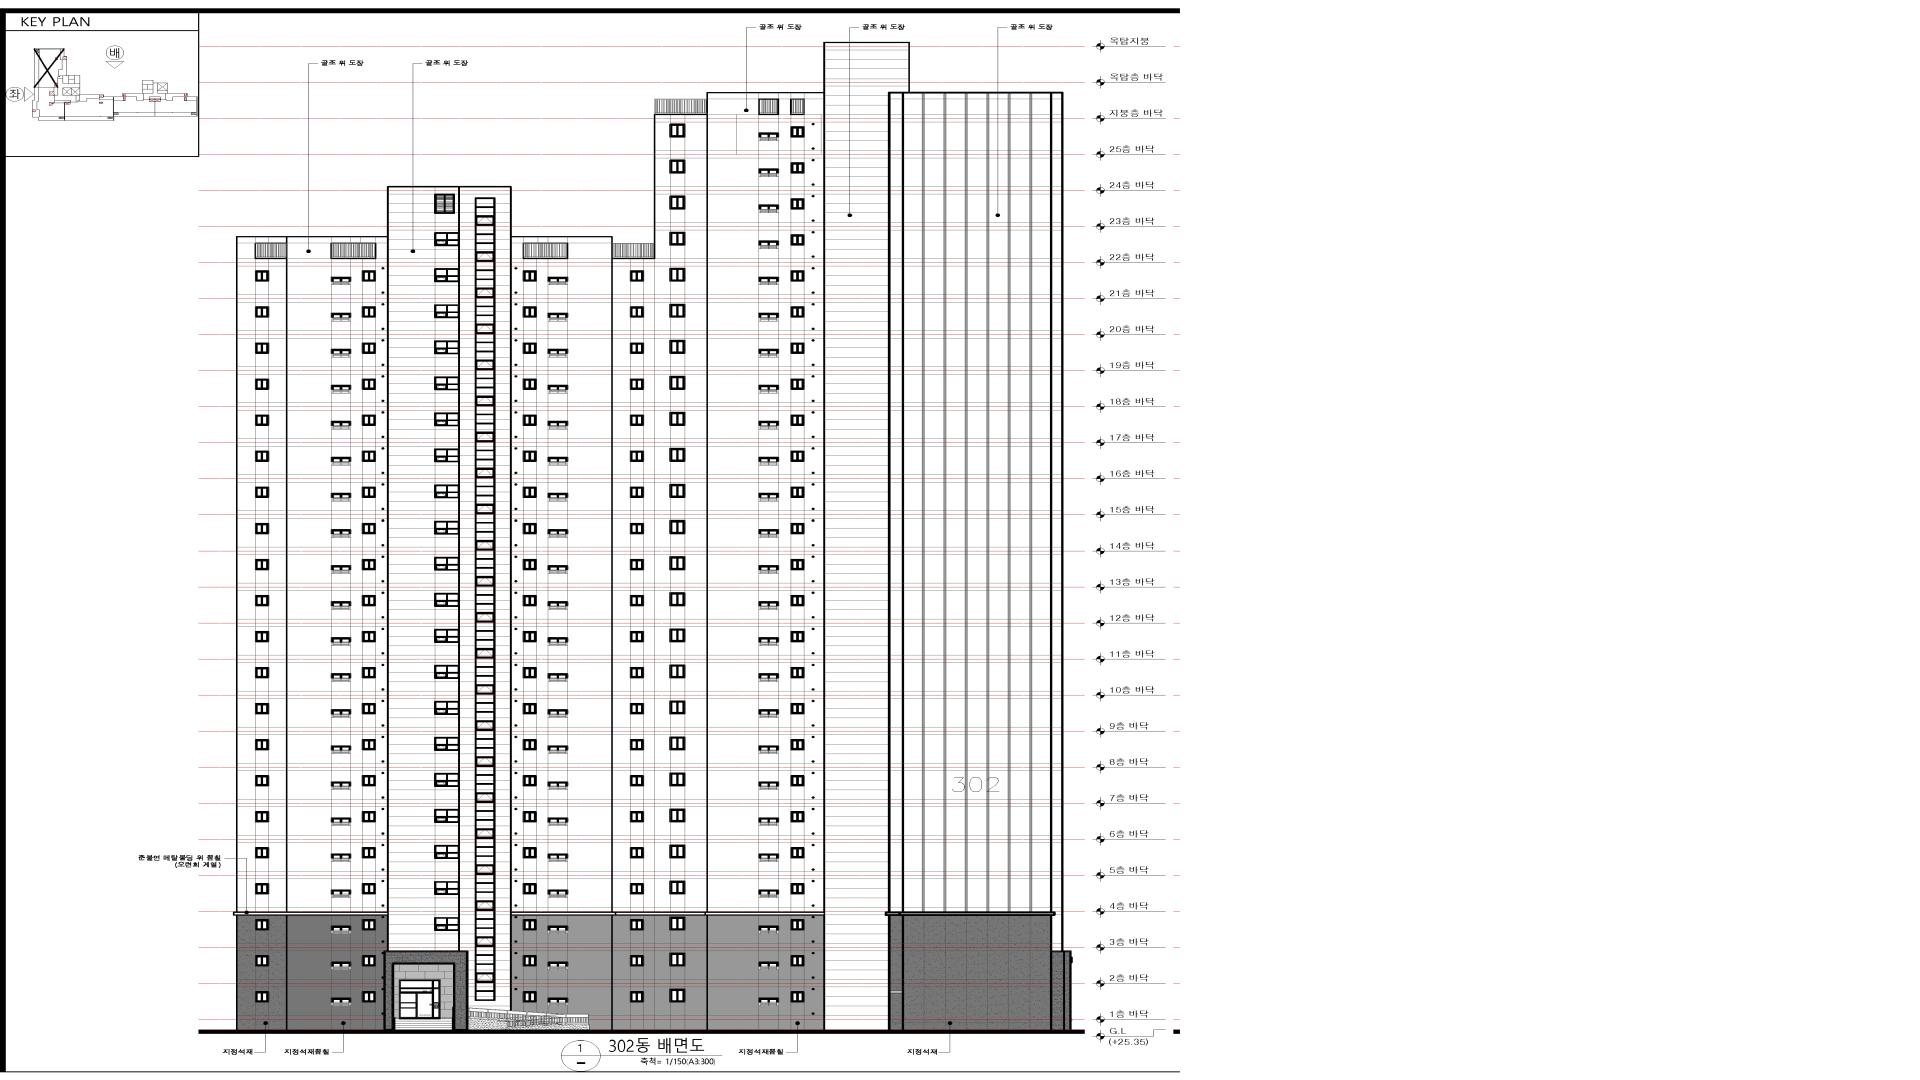door: (417, 993, 433, 1018)
wall: (236, 42, 1072, 1034)
window: (330, 243, 377, 260), (522, 243, 568, 260), (475, 334, 496, 371), (475, 442, 496, 479), (475, 550, 496, 587), (475, 658, 496, 695), (475, 766, 496, 803), (475, 874, 496, 911), (475, 225, 496, 261), (475, 262, 496, 298), (475, 298, 496, 334), (475, 371, 496, 406), (475, 406, 496, 442), (475, 479, 496, 514), (475, 514, 496, 550), (475, 587, 496, 622), (475, 622, 496, 658), (475, 695, 496, 731), (475, 731, 496, 766), (475, 803, 496, 839), (475, 839, 496, 874), (475, 911, 496, 947), (475, 947, 496, 982), (475, 198, 496, 225), (255, 243, 287, 260), (434, 194, 455, 214), (475, 982, 496, 1001), (434, 232, 460, 247), (434, 268, 460, 282), (434, 340, 460, 355), (434, 448, 460, 463), (434, 484, 460, 498), (434, 556, 460, 571), (434, 629, 460, 644), (434, 665, 460, 679), (434, 773, 460, 787), (434, 845, 460, 860), (434, 881, 460, 895), (434, 305, 460, 318), (434, 377, 460, 390), (434, 413, 460, 426), (434, 521, 460, 534), (434, 593, 460, 607), (434, 702, 460, 715), (434, 737, 460, 750), (434, 810, 460, 823), (434, 918, 460, 931), (758, 99, 779, 115), (669, 195, 686, 210), (669, 268, 686, 282), (669, 303, 686, 318), (669, 520, 686, 534), (669, 700, 686, 715), (669, 808, 686, 823), (669, 916, 686, 931), (790, 99, 804, 115), (670, 160, 686, 174), (670, 376, 686, 390), (670, 411, 686, 426), (670, 484, 686, 498), (670, 556, 686, 571), (670, 592, 686, 607), (670, 665, 686, 679), (670, 736, 686, 750), (669, 124, 686, 137), (669, 629, 686, 642), (669, 845, 686, 858), (669, 881, 686, 894), (670, 232, 686, 245), (670, 340, 686, 353), (670, 448, 686, 462), (670, 773, 686, 786), (670, 953, 686, 967), (670, 989, 686, 1002), (547, 961, 568, 971), (331, 421, 352, 430), (331, 456, 352, 465), (331, 529, 352, 538), (331, 637, 352, 646), (331, 745, 352, 754), (331, 853, 352, 862), (331, 961, 352, 971), (331, 997, 352, 1006), (758, 456, 779, 465), (758, 529, 779, 538), (758, 637, 779, 646), (758, 673, 779, 682), (758, 745, 779, 754), (758, 853, 779, 862), (758, 961, 779, 971), (758, 997, 779, 1006), (547, 313, 568, 322), (547, 421, 568, 430), (547, 456, 568, 465), (547, 529, 568, 538), (547, 637, 568, 646), (547, 745, 568, 754), (547, 853, 568, 862), (758, 132, 779, 141), (758, 204, 779, 214), (758, 240, 779, 249), (758, 313, 779, 322), (758, 348, 779, 357), (758, 421, 779, 430), (331, 313, 351, 322), (790, 198, 804, 210), (790, 306, 804, 318), (790, 343, 804, 355), (790, 378, 804, 390), (790, 414, 804, 426), (790, 559, 804, 571), (790, 595, 804, 607), (790, 919, 804, 931), (790, 955, 804, 967), (522, 811, 537, 823), (522, 847, 537, 858), (522, 919, 537, 931), (522, 955, 537, 967), (361, 306, 376, 318), (361, 378, 376, 390), (361, 414, 376, 426), (361, 487, 376, 498), (361, 559, 376, 571), (361, 595, 376, 607), (361, 703, 376, 715), (361, 738, 376, 750), (361, 811, 376, 823), (361, 847, 376, 858), (361, 919, 376, 931), (361, 955, 376, 967), (255, 270, 269, 282), (255, 306, 269, 318), (255, 378, 269, 390), (630, 270, 645, 282), (630, 306, 645, 318), (630, 378, 645, 390), (630, 414, 645, 426), (630, 487, 645, 498), (630, 559, 645, 571), (630, 703, 645, 715), (630, 738, 645, 750), (630, 811, 645, 823), (255, 487, 269, 498), (255, 522, 269, 534), (255, 559, 269, 571), (255, 595, 269, 607), (255, 703, 269, 715), (255, 811, 269, 823), (255, 847, 269, 858), (255, 919, 269, 931), (630, 847, 645, 858), (630, 919, 645, 931), (630, 955, 645, 967), (522, 270, 537, 282), (522, 306, 537, 318), (522, 378, 537, 390), (522, 414, 537, 426), (522, 703, 537, 715), (547, 998, 568, 1006), (331, 277, 352, 285), (331, 349, 352, 357), (331, 385, 352, 393), (331, 493, 352, 501), (331, 566, 352, 574), (331, 601, 352, 609), (331, 674, 352, 682), (331, 709, 352, 717), (331, 782, 352, 790), (331, 818, 352, 825), (331, 926, 352, 934), (758, 493, 779, 501), (758, 566, 779, 574), (758, 601, 779, 609), (758, 709, 779, 717), (758, 782, 779, 790), (758, 818, 779, 825), (758, 890, 779, 898), (758, 926, 779, 934), (547, 277, 568, 285), (547, 349, 568, 357), (547, 385, 568, 393), (547, 493, 568, 501), (547, 566, 568, 574), (547, 601, 568, 609), (547, 674, 568, 682), (547, 709, 568, 717), (547, 782, 568, 790), (547, 818, 568, 825), (758, 169, 779, 177), (758, 277, 779, 285), (758, 385, 779, 393), (547, 890, 568, 898), (547, 926, 568, 934), (791, 162, 804, 174), (791, 270, 804, 282), (791, 487, 804, 498), (791, 630, 804, 642), (791, 703, 804, 715), (791, 811, 804, 823), (791, 847, 804, 858), (331, 890, 351, 898), (630, 595, 644, 607), (256, 955, 269, 967), (524, 487, 537, 498), (524, 559, 537, 571), (524, 595, 537, 607), (790, 127, 804, 137), (790, 235, 804, 245), (790, 451, 804, 462), (790, 524, 804, 534), (790, 667, 804, 678), (790, 740, 804, 750), (790, 775, 804, 786), (790, 884, 804, 894), (522, 775, 537, 786), (522, 884, 537, 894), (361, 270, 376, 281), (361, 343, 376, 353), (361, 451, 376, 462), (361, 524, 376, 534), (361, 632, 376, 642), (361, 667, 376, 678), (361, 775, 376, 786), (361, 884, 376, 894), (361, 992, 376, 1002), (255, 343, 269, 353), (255, 415, 269, 426), (630, 343, 645, 353), (630, 451, 645, 462), (630, 632, 645, 642), (630, 775, 645, 786), (255, 632, 269, 642), (255, 667, 269, 678), (255, 740, 269, 750), (255, 775, 269, 786), (255, 884, 269, 894), (630, 884, 645, 894), (522, 343, 537, 353), (522, 451, 537, 462), (522, 524, 537, 534), (522, 632, 537, 642), (791, 992, 804, 1002), (524, 740, 537, 750), (524, 992, 537, 1002), (630, 524, 644, 534), (630, 667, 644, 678), (256, 451, 269, 462), (256, 992, 269, 1002), (630, 992, 644, 1002), (524, 667, 537, 678)
